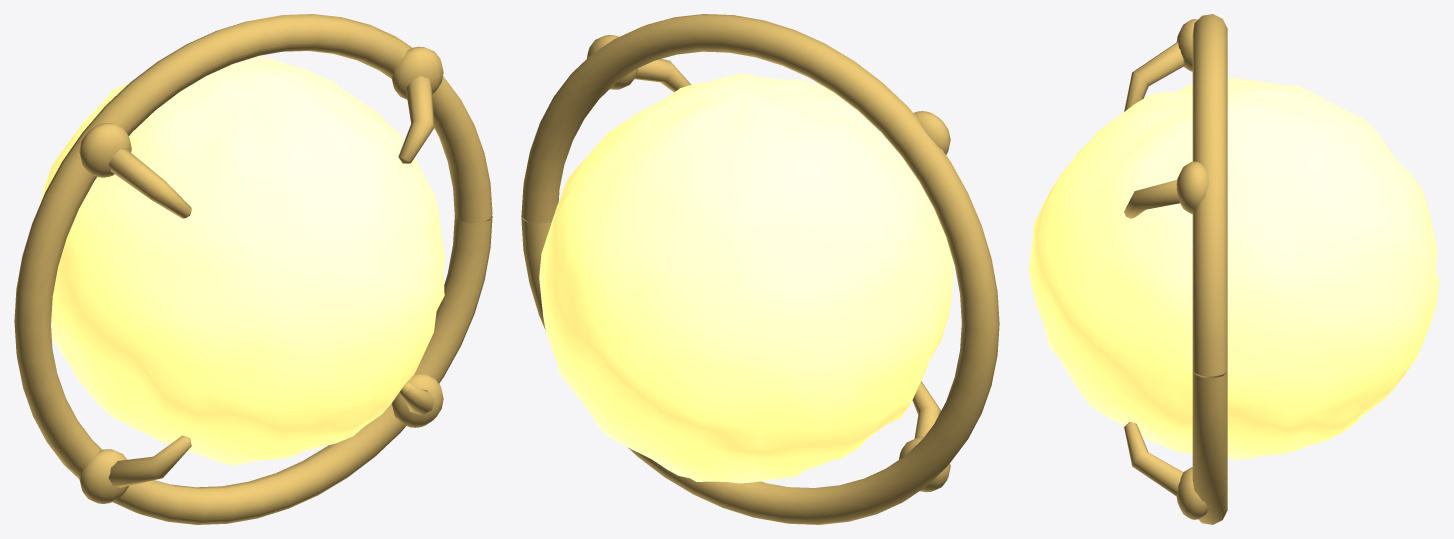
File: yeast_cannon.glb
3 renders of one model, left to right at view 1: azimuth 30°, elevation 25°; view 2: azimuth 150°, elevation 25°; view 3: azimuth 270°, elevation 25°, orthographic. The views are drawn at different scales.
Parts seen in each view (by area): view 1: YC_Dough, YC_Clamp; view 2: YC_Dough, YC_Clamp; view 3: YC_Dough, YC_Clamp.
Boxes of the visible parts, box(x1,y1,x2,y2) form: YC_Dough: box(40, 56, 444, 465); YC_Clamp: box(14, 14, 492, 524); YC_Dough: box(539, 73, 953, 483); YC_Clamp: box(521, 14, 999, 524); YC_Dough: box(1028, 78, 1439, 459); YC_Clamp: box(1124, 14, 1227, 524).
Size of the model in its own units: 0.4616 by 0.4616 by 0.3712.
